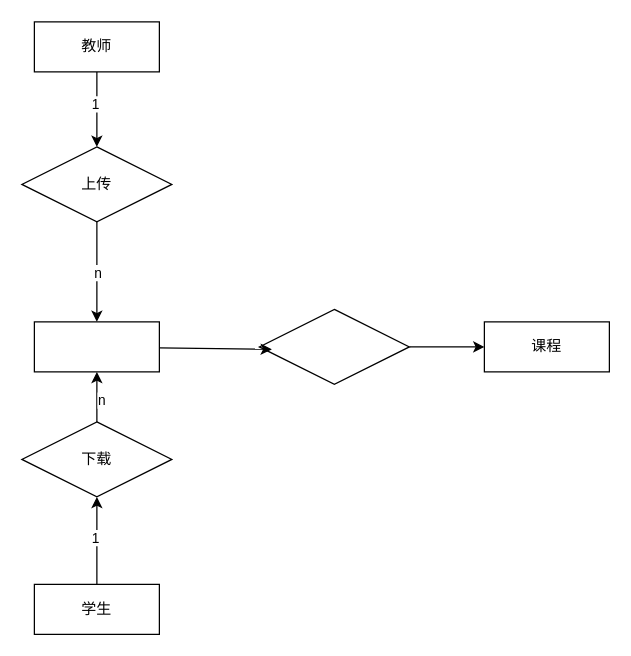
Some shapes in this 631 by 656 pixel diagram are drawn without their labels. The box of each missing label's shape, as (x1, y1, x2, y2) in pixels:
包含: (258, 308, 409, 384)
教学资源: (33, 321, 159, 372)
